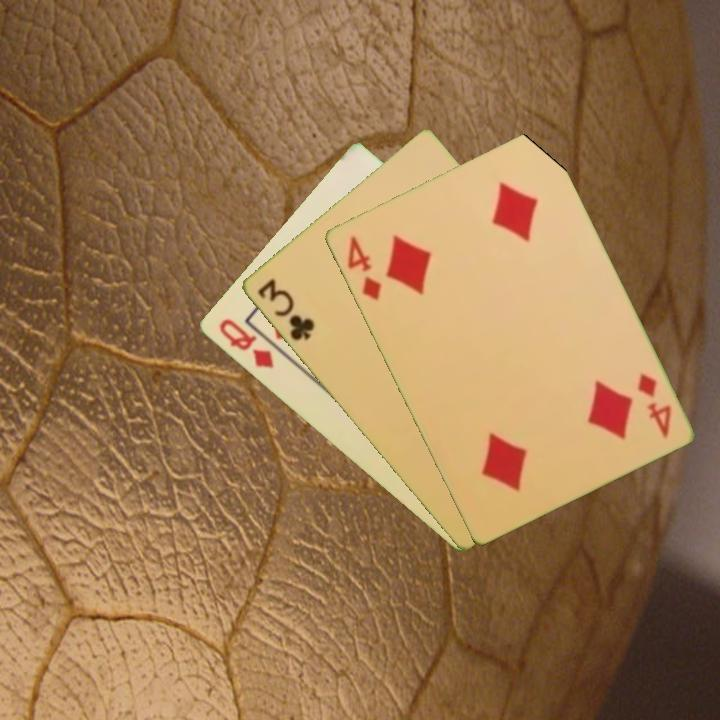3c: (253, 275, 317, 344)
4d: (343, 232, 384, 304), (633, 369, 674, 441)
Qd: (215, 315, 276, 372)
